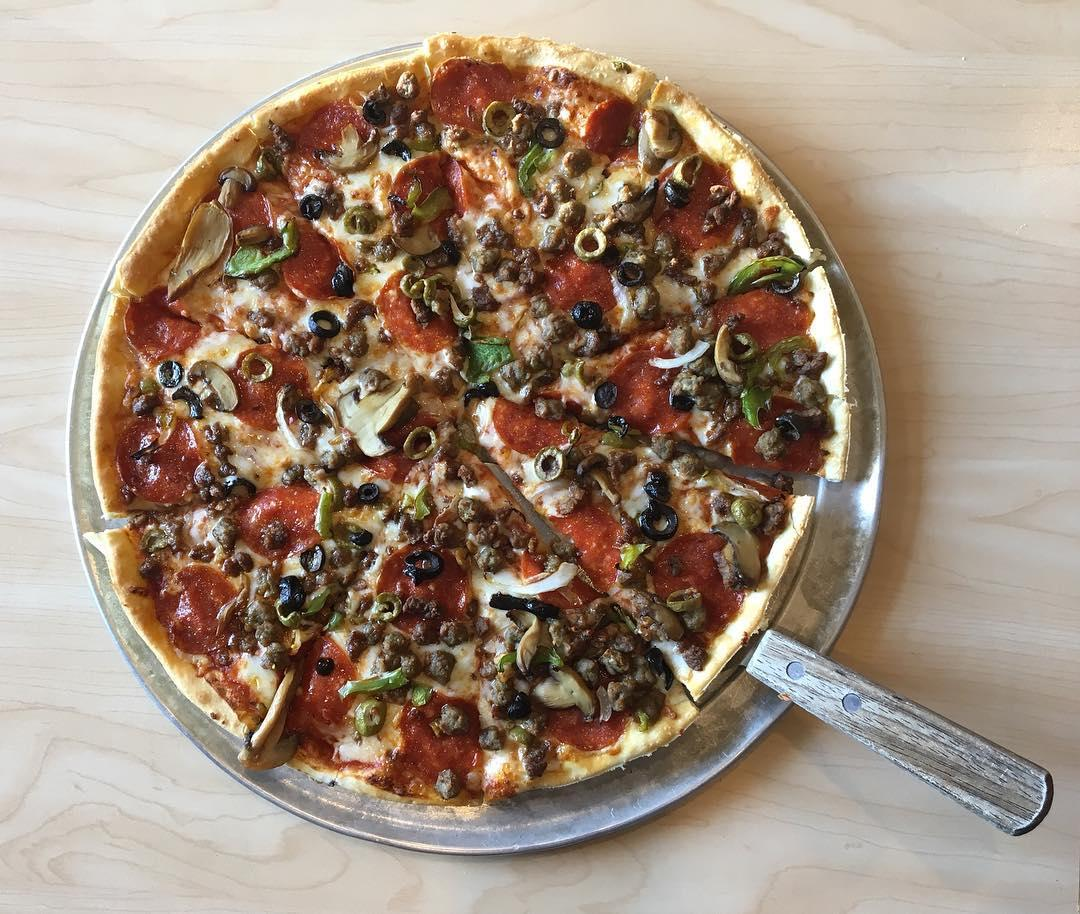Basil: (219, 218, 301, 277), (462, 333, 516, 390)
Mushroom: (335, 383, 415, 458), (525, 661, 606, 726), (173, 357, 242, 422), (711, 521, 767, 598), (315, 119, 382, 175), (387, 199, 444, 257), (608, 171, 661, 225), (643, 97, 685, 163), (217, 163, 253, 212)
Olives: (490, 586, 564, 624), (634, 496, 685, 542), (350, 691, 393, 736), (399, 547, 447, 586), (402, 423, 440, 464), (668, 149, 703, 193), (773, 405, 809, 447), (480, 100, 519, 138), (533, 443, 569, 484), (168, 388, 208, 422), (326, 260, 358, 302), (573, 223, 610, 259), (529, 114, 567, 149), (233, 353, 278, 382), (641, 464, 676, 500), (498, 686, 536, 719), (660, 178, 694, 214), (788, 346, 835, 372), (304, 306, 341, 339), (231, 221, 276, 248), (275, 574, 306, 612), (590, 377, 625, 409), (296, 540, 328, 575), (572, 296, 606, 328), (615, 258, 650, 289), (297, 192, 331, 223), (423, 271, 451, 306), (360, 94, 389, 127), (350, 478, 383, 505), (770, 270, 805, 295), (219, 473, 257, 496), (666, 387, 699, 413), (402, 270, 430, 300), (157, 358, 187, 386), (342, 207, 373, 233), (294, 398, 324, 423), (377, 138, 413, 158), (346, 526, 374, 549), (401, 255, 427, 278)
Pepperoni: (235, 187, 350, 301), (650, 530, 749, 638), (373, 540, 480, 639), (110, 402, 210, 507), (522, 505, 624, 607), (396, 684, 485, 797), (148, 561, 241, 659), (222, 341, 316, 436), (720, 394, 824, 478), (373, 262, 465, 356), (423, 51, 520, 140), (656, 152, 740, 252), (238, 477, 332, 565), (703, 285, 812, 353), (601, 339, 681, 431), (119, 281, 205, 362), (294, 628, 359, 733), (388, 148, 472, 228), (489, 387, 579, 458), (533, 246, 620, 319), (525, 699, 630, 752), (581, 93, 643, 161)
Peppers: (739, 331, 812, 433), (717, 250, 807, 297), (275, 575, 341, 629), (335, 663, 412, 699), (313, 468, 342, 537), (515, 140, 551, 191), (410, 179, 453, 220), (497, 644, 563, 667)
Pizza: (90, 28, 855, 804)
